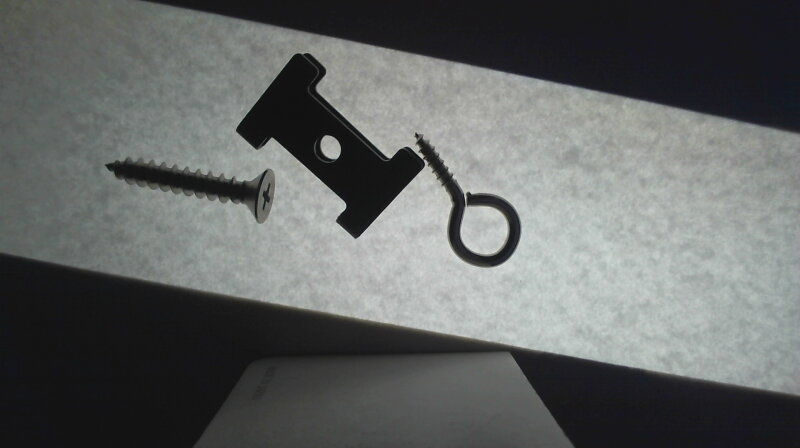O001: (411, 130, 522, 269)
O002: (235, 49, 425, 238)
S001: (104, 154, 274, 225)
